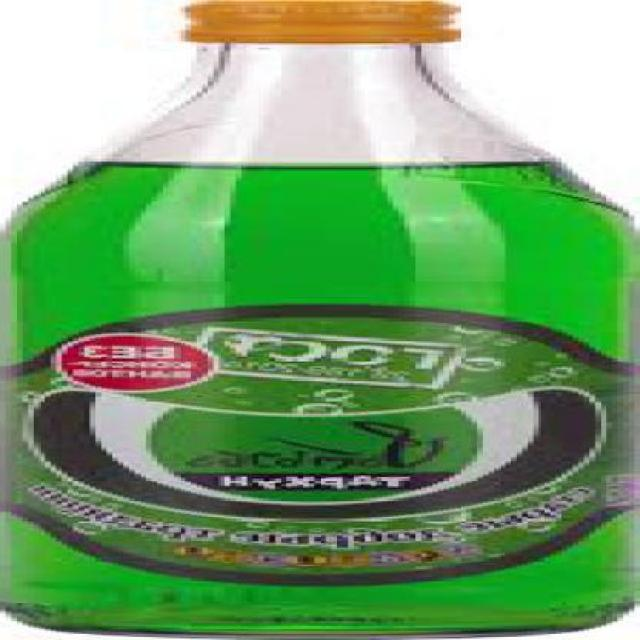GLASS: (4, 40, 638, 638)
METAL: (196, 0, 461, 42)
